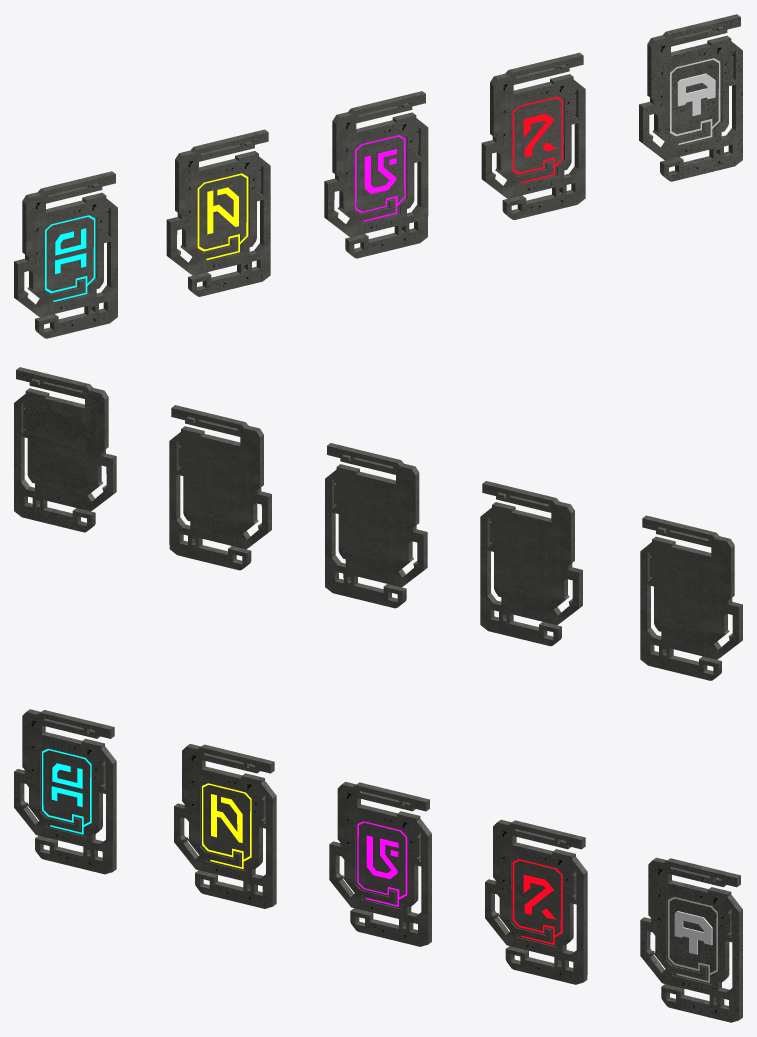
Rendered from Tablets.fbx.
3 renders of one model, top to bottom at view 1: azimuth 30°, elevation 25°; view 2: azimuth 150°, elevation 25°; view 3: azimuth 330°, elevation 25°, orthographic.
Parts seen in each view (by area): view 1: PurpleTablet, RedTablet, OrangeTablet, BlueTablet, WhiteTablet; view 2: RedTablet, PurpleTablet, WhiteTablet, BlueTablet, OrangeTablet; view 3: RedTablet, PurpleTablet, WhiteTablet, BlueTablet, OrangeTablet.
Boxes of the visible parts, x1,y1,x2,y2 form: PurpleTablet: (324, 91, 428, 258); RedTablet: (481, 52, 585, 219); OrangeTablet: (166, 129, 270, 296); BlueTablet: (14, 171, 117, 338); WhiteTablet: (639, 14, 742, 181); RedTablet: (169, 405, 271, 570); PurpleTablet: (325, 443, 427, 608); WhiteTablet: (14, 367, 116, 532); BlueTablet: (640, 515, 742, 680); OrangeTablet: (480, 481, 582, 646); RedTablet: (485, 819, 587, 984); PurpleTablet: (329, 781, 431, 946); WhiteTablet: (640, 857, 742, 1022); BlueTablet: (14, 709, 116, 874); OrangeTablet: (174, 744, 276, 908).
Size of the model in its own units: 2318 by 47.1 by 449.
7 materials, 1 textured.
